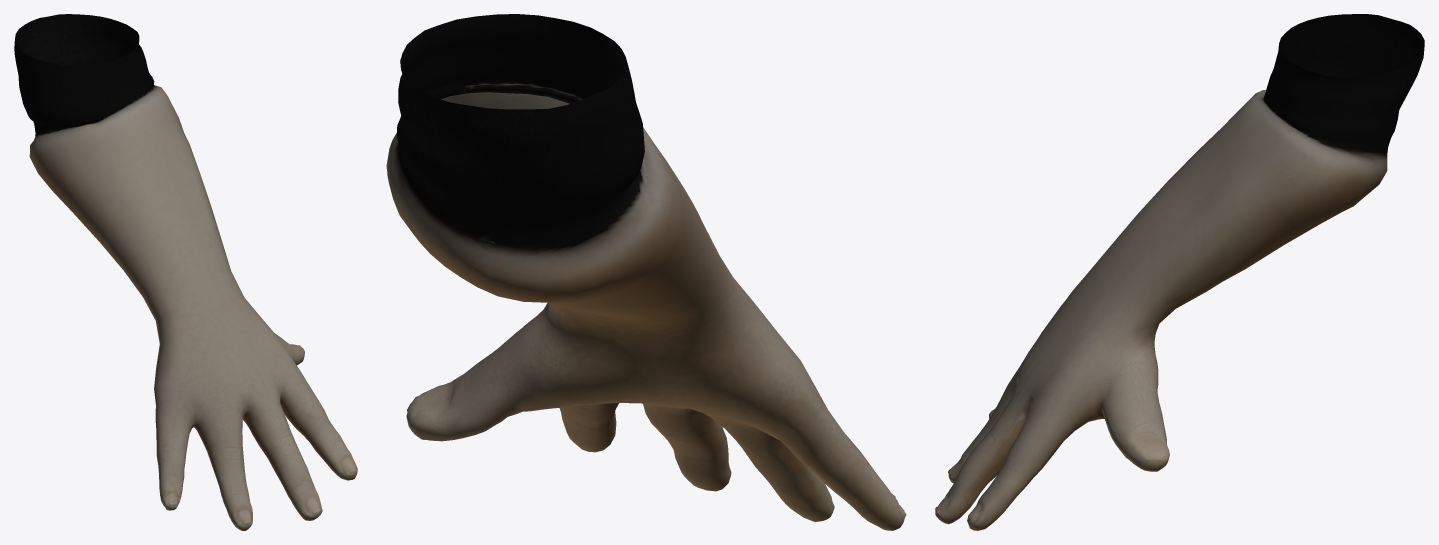
Rendered from rubber-hand.glb.
3 views of the same model, side by side, from view 1: azimuth 30°, elevation 25°; view 2: azimuth 150°, elevation 25°; view 3: azimuth 270°, elevation 25° (orthographic). The views are drawn at different scales.
Parts seen in each view (by area): view 1: tripo_node_e9ef5697-4646-45b1-a3ec-5876a7ad4784; view 2: tripo_node_e9ef5697-4646-45b1-a3ec-5876a7ad4784; view 3: tripo_node_e9ef5697-4646-45b1-a3ec-5876a7ad4784.
Boxes of the visible parts, box(x1,y1,x2,y2) form: tripo_node_e9ef5697-4646-45b1-a3ec-5876a7ad4784: box(14, 14, 357, 530); tripo_node_e9ef5697-4646-45b1-a3ec-5876a7ad4784: box(386, 14, 906, 530); tripo_node_e9ef5697-4646-45b1-a3ec-5876a7ad4784: box(935, 14, 1424, 530).
Bounding box in the file's own units: 0.5684 × 0.9941 × 0.998.
1 material, 1 textured.
